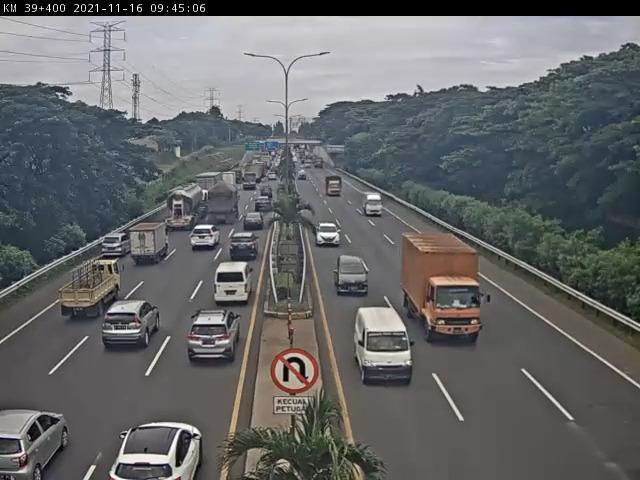car: (355, 308, 413, 387), (102, 300, 160, 348), (187, 311, 241, 361), (213, 265, 251, 306), (335, 255, 372, 295), (229, 236, 258, 264), (102, 233, 132, 258), (192, 225, 223, 247), (316, 221, 342, 247), (243, 214, 265, 234), (254, 198, 273, 214)
truck: (404, 235, 487, 344), (61, 260, 126, 318), (164, 184, 207, 231), (130, 224, 170, 267), (206, 185, 241, 226), (360, 191, 384, 219)
